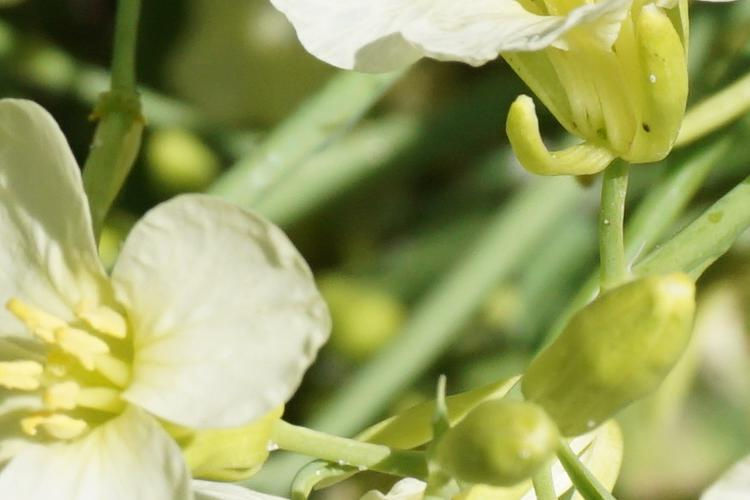bud: (527, 254, 699, 437), (406, 382, 566, 485)
white: (4, 97, 317, 498), (276, 6, 716, 165)
